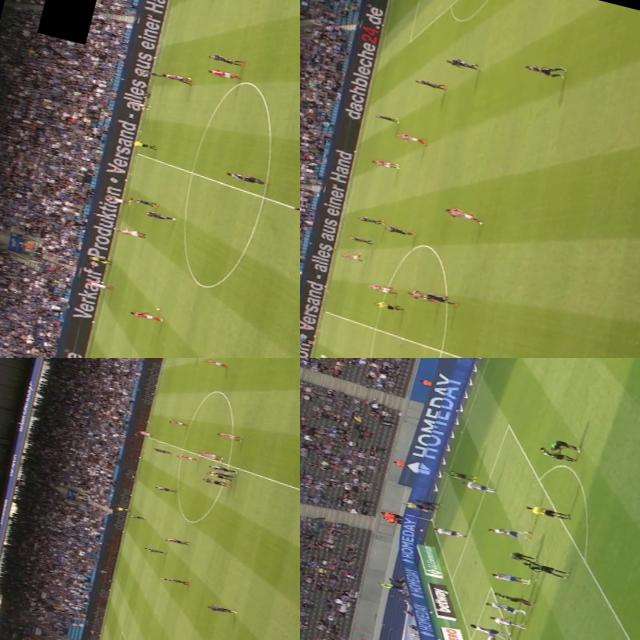ball: (422, 514, 438, 522), (315, 350, 330, 358), (154, 306, 163, 312), (196, 452, 203, 456)
player: (520, 58, 568, 80), (485, 519, 529, 543), (461, 618, 508, 638), (536, 444, 579, 464), (488, 566, 531, 586), (522, 557, 564, 577), (486, 587, 532, 605), (428, 522, 468, 542), (484, 598, 524, 617), (224, 168, 265, 186), (204, 64, 242, 82), (410, 76, 451, 92), (488, 610, 524, 628), (204, 50, 243, 66), (421, 289, 455, 307), (502, 546, 536, 564), (460, 478, 498, 494), (126, 307, 163, 323), (443, 208, 480, 224), (403, 286, 440, 302), (548, 436, 580, 454), (443, 54, 476, 70), (205, 600, 238, 616), (142, 208, 177, 223), (366, 280, 398, 296), (116, 225, 148, 240), (442, 468, 476, 482), (352, 212, 385, 226), (160, 573, 193, 587), (200, 474, 233, 488), (206, 462, 239, 476), (408, 495, 440, 509), (138, 66, 168, 80), (128, 194, 160, 207), (393, 130, 422, 144), (197, 448, 226, 462), (215, 428, 244, 442), (382, 224, 412, 237), (89, 278, 116, 291), (340, 249, 367, 262), (163, 534, 192, 546), (122, 98, 150, 110), (151, 482, 179, 494), (206, 468, 236, 479), (479, 630, 512, 640), (373, 157, 398, 170), (104, 193, 128, 206), (349, 233, 375, 245), (175, 450, 200, 462), (165, 72, 192, 83), (151, 444, 172, 456), (203, 358, 228, 368), (167, 417, 189, 428), (142, 545, 166, 555), (376, 111, 397, 122), (136, 428, 156, 437), (128, 512, 147, 520)
